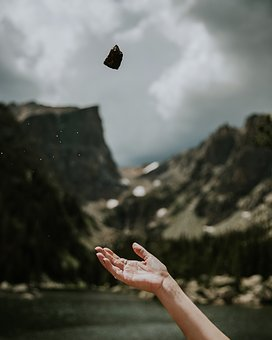palm: (125, 260, 164, 284)
